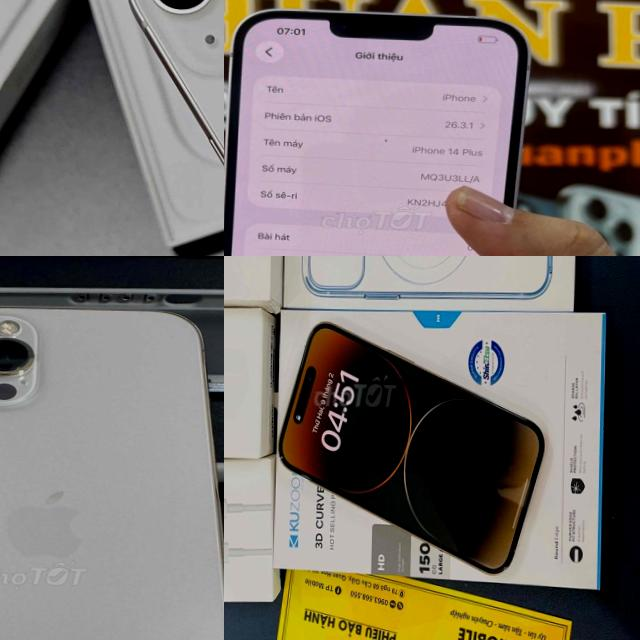gen_12_13: (0, 295, 224, 640)
gen_14: (224, 0, 510, 256), (276, 313, 553, 575), (115, 0, 224, 256)
